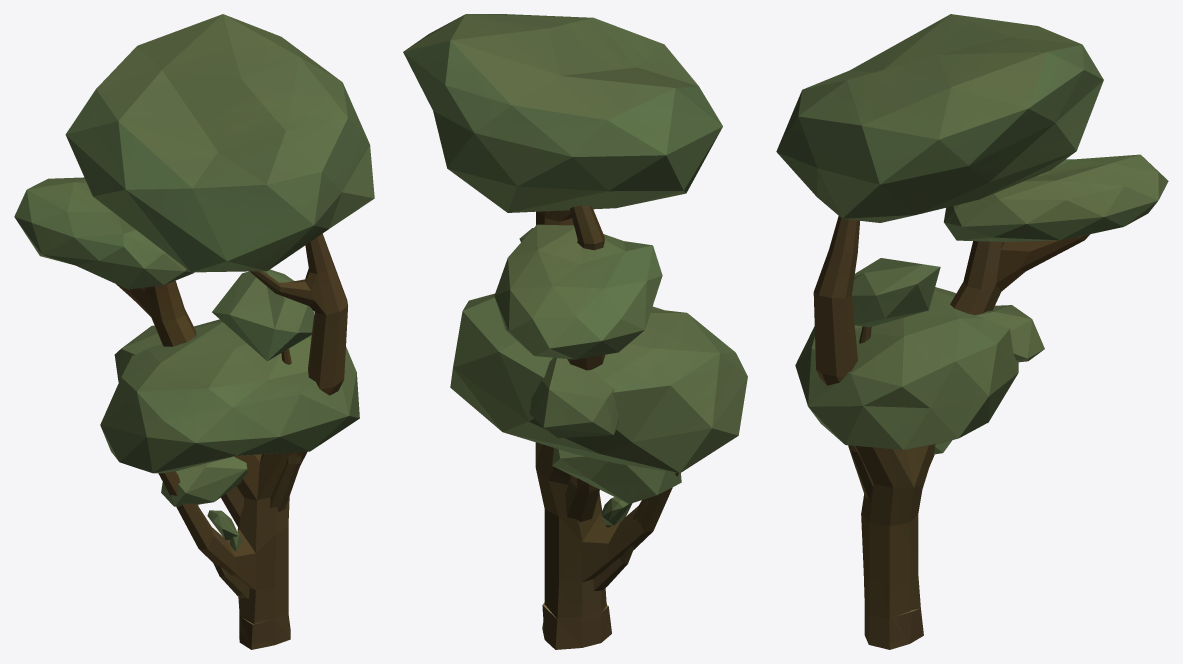
File: tree3V1.fbx
3 renders of one model, left to right at view 1: azimuth 30°, elevation 25°; view 2: azimuth 150°, elevation 25°; view 3: azimuth 270°, elevation 25°, orthographic. The views are drawn at different scales.
Parts seen in each view (by area): view 1: Tree3, Tree3Stage3, Tree3Stub, Tree3Stage1; view 2: Tree3, Tree3Stage3, Tree3Stub, Tree3Stage1; view 3: Tree3, Tree3Stage3, Tree3Stub.
Boxes of the visible parts, x1,y1,x2,y2 form: Tree3: [14, 14, 374, 649]; Tree3Stage3: [114, 269, 313, 598]; Tree3Stub: [239, 617, 290, 649]; Tree3Stage1: [207, 510, 237, 540]; Tree3: [403, 14, 747, 649]; Tree3Stage3: [519, 228, 681, 590]; Tree3Stub: [542, 602, 611, 649]; Tree3Stage1: [601, 497, 632, 527]; Tree3: [776, 14, 1168, 649]; Tree3Stage3: [848, 258, 1044, 500]; Tree3Stub: [864, 608, 923, 649].
Size of what is drawn, in the model's own units: 170 by 371 by 220.
